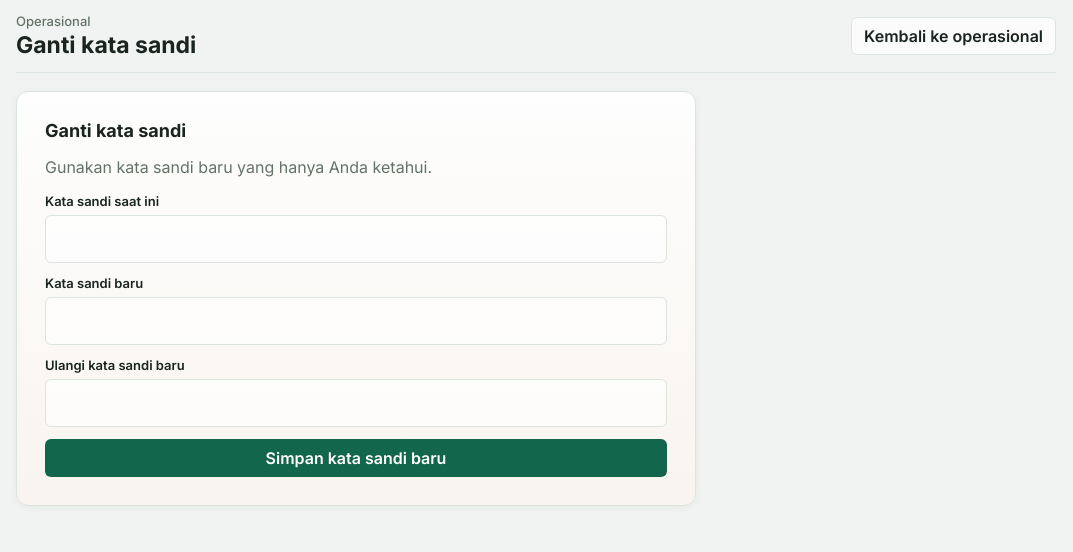
Scenario: ChangePasswordPage › mengirim password baru setelah validasi form lulus
Type "OldPass#2026" into the password field labelled "Kata sandi saat ini". click: (356, 239)
box: left=45, top=215, right=667, bottom=263
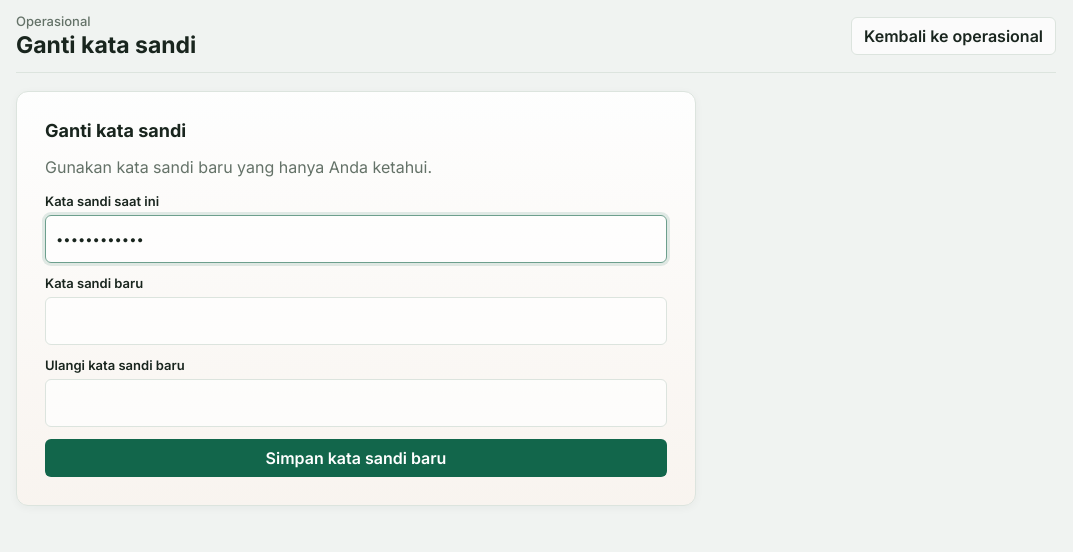
Type "NewPass#2026" into the password field labelled "Kata sandi baru". click: (356, 321)
box: left=45, top=297, right=667, bottom=345
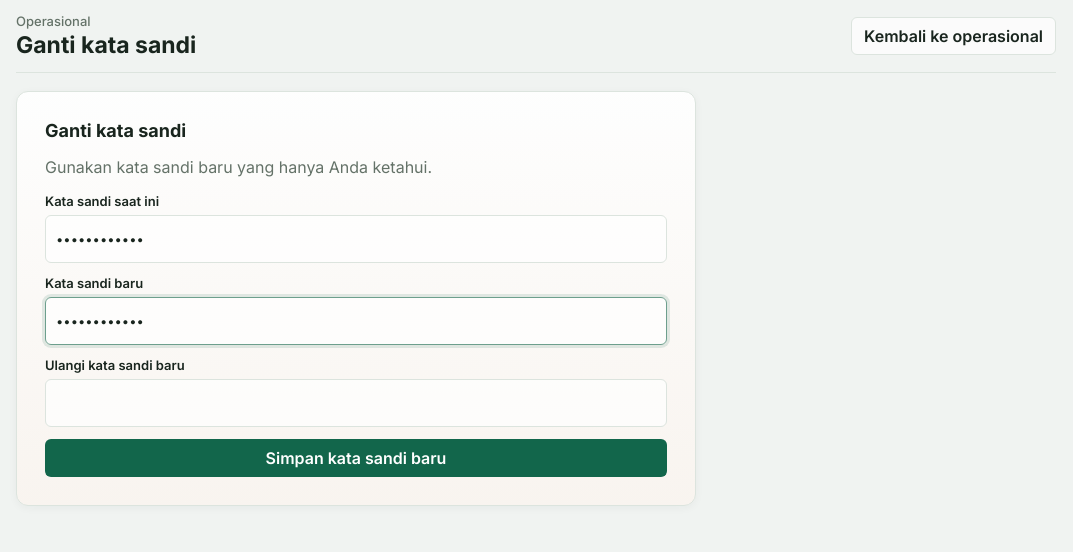
Type "NewPass#2026" into the password field labelled "Ulangi kata sandi baru". click: (356, 403)
box: left=45, top=379, right=667, bottom=427
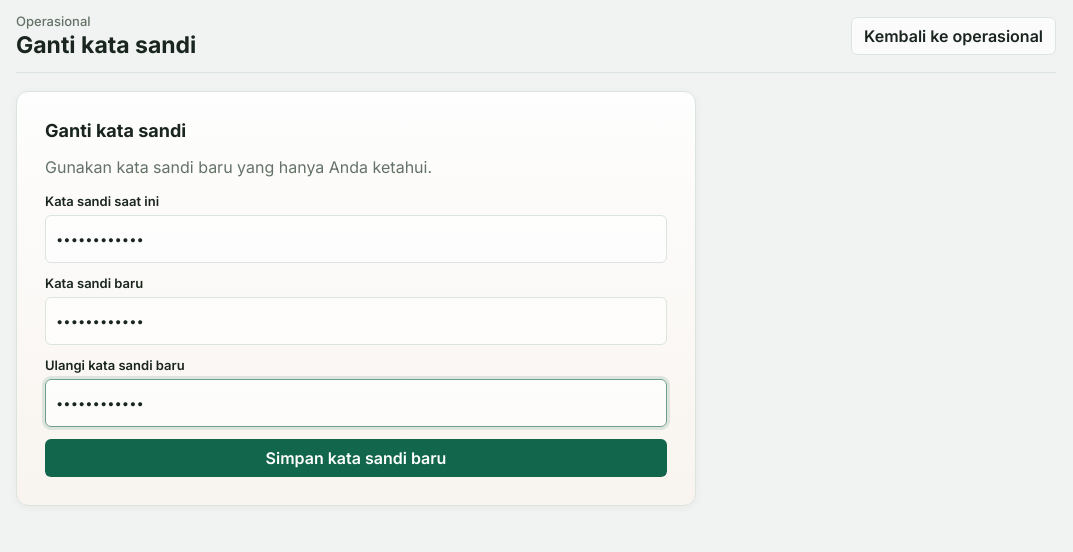
Click the button "Simpan kata sandi baru". click: (356, 458)
box: left=45, top=439, right=667, bottom=477
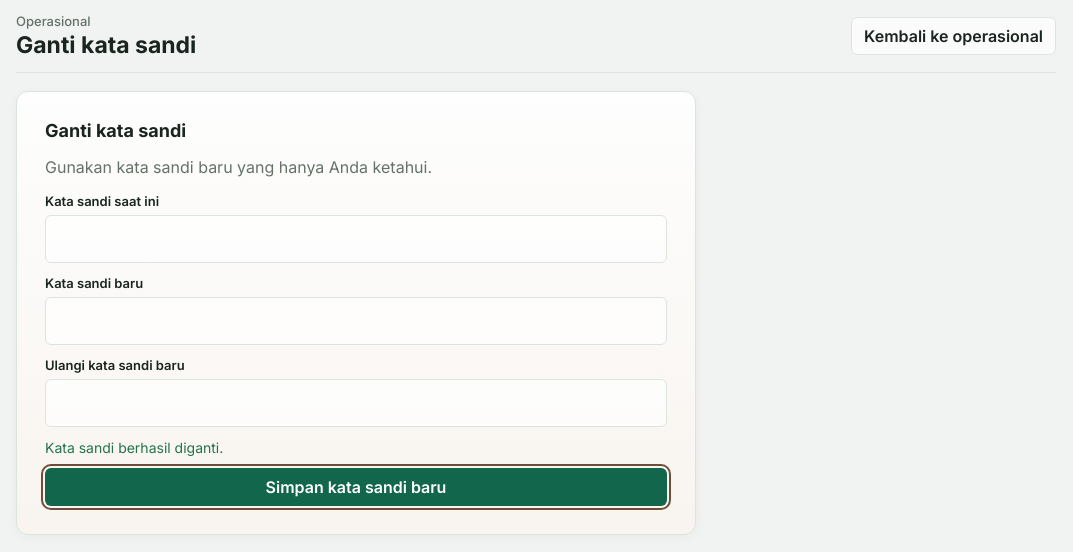
expect the text "Kata sandi berhasil diganti." is shown: met, box left=45, top=439, right=223, bottom=456
